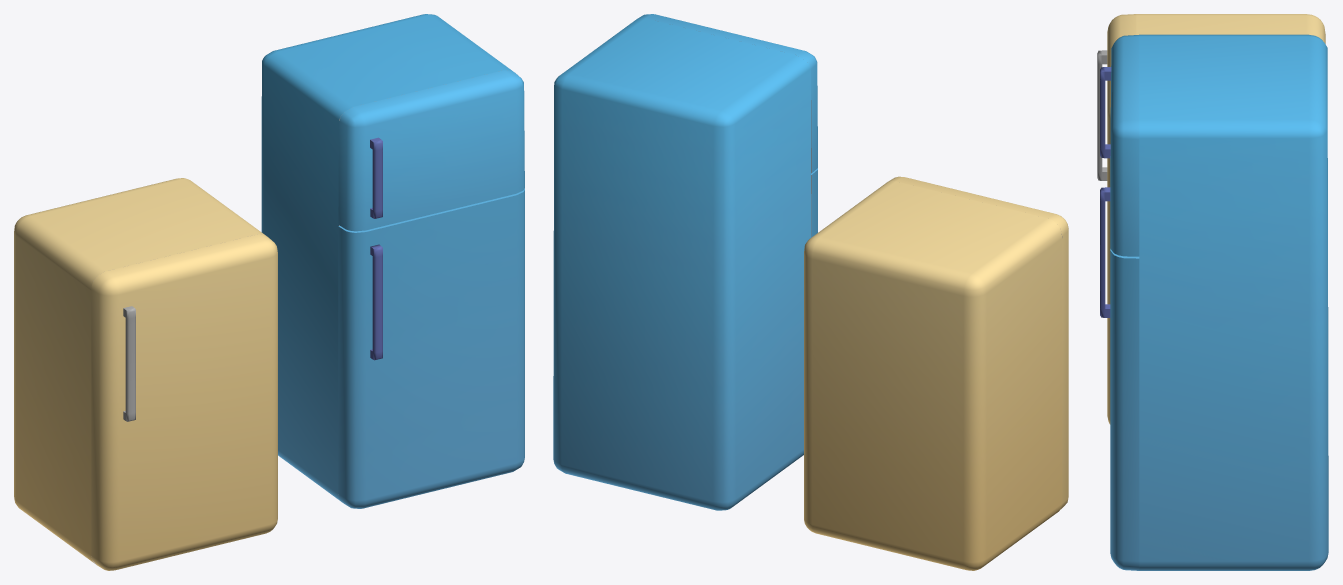
File: refrigerator.fbx
3 views of the same model, side by side, from view 1: azimuth 30°, elevation 25°; view 2: azimuth 150°, elevation 25°; view 3: azimuth 270°, elevation 25° (orthographic). The views are drawn at different scales.
Parts seen in each view (by area): view 1: door_2, lowerDoor_1, refrigerator_1, refrigerator_2, upperDoor; view 2: refrigerator_1, refrigerator_2, door_2, upperDoor; view 3: refrigerator_1, lowerDoor_1, upperDoor, refrigerator_2, door_2.
Part boxes in pixels (bbox=[...]): door_2: bbox=[91, 234, 277, 570]; lowerDoor_1: bbox=[338, 189, 524, 508]; refrigerator_1: bbox=[261, 14, 511, 501]; refrigerator_2: bbox=[14, 178, 264, 564]; upperDoor: bbox=[338, 70, 524, 231]; refrigerator_1: bbox=[553, 18, 811, 510]; refrigerator_2: bbox=[804, 181, 1062, 570]; door_2: bbox=[888, 176, 1068, 509]; upperDoor: bbox=[637, 14, 817, 173]; refrigerator_1: bbox=[1139, 34, 1328, 570]; lowerDoor_1: bbox=[1100, 187, 1139, 570]; upperDoor: bbox=[1100, 35, 1139, 256]; refrigerator_2: bbox=[1136, 14, 1325, 43]; door_2: bbox=[1097, 14, 1136, 424].
Bounding box in the file's own units: 6.9 × 2.85 × 6.12.
